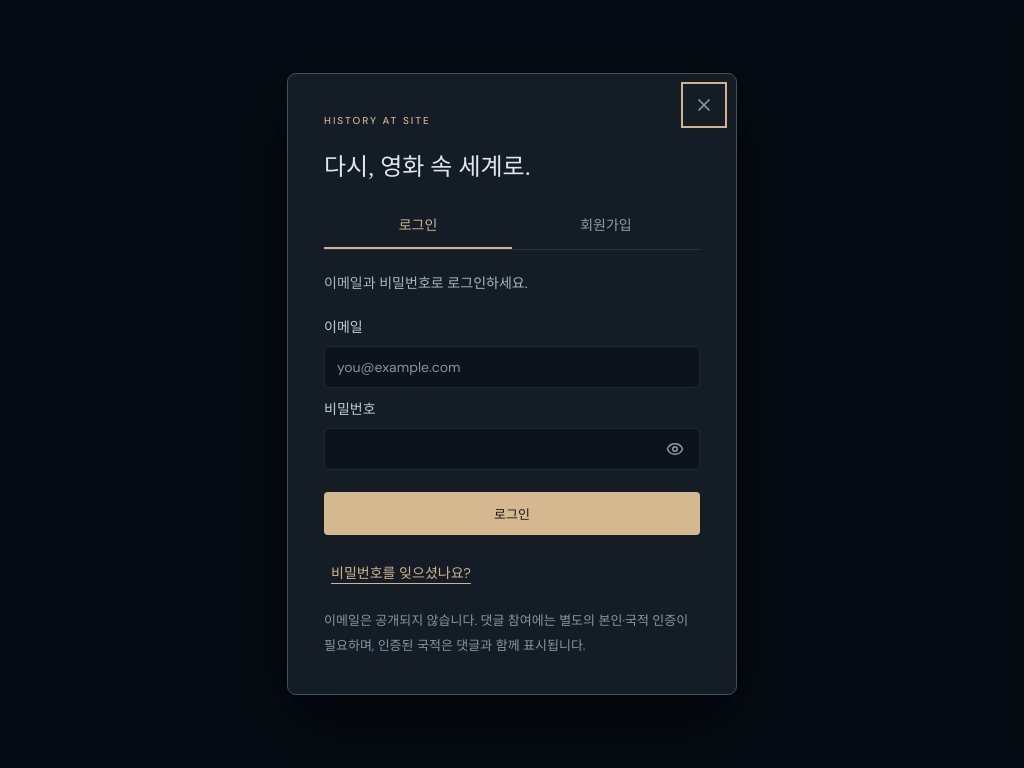
email account dialog › requires matching passwords and awaits email confirmation rather than claiming a session
Click the button "회원가입" at (606, 224), box [512,200,700,248]
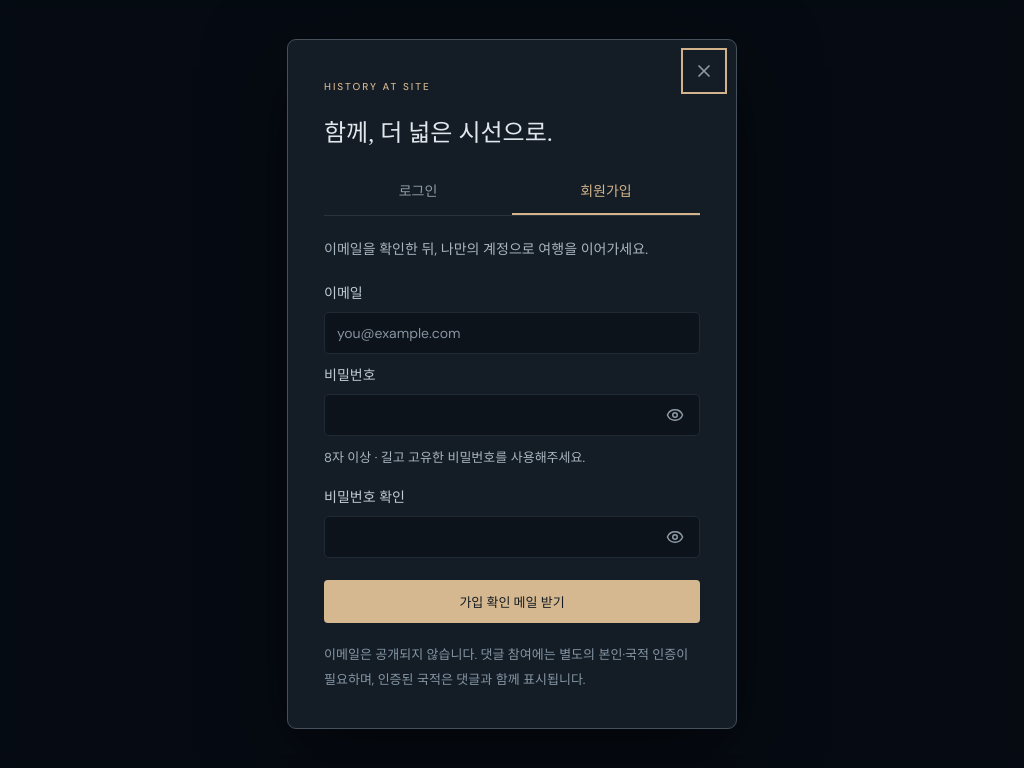
Type "reader@example.com" into the field labelled "이메일" at (512, 333), box [324,312,700,354]
Type "a-long-password" into the password field labelled "비밀번호" at (512, 415), box [324,394,700,436]
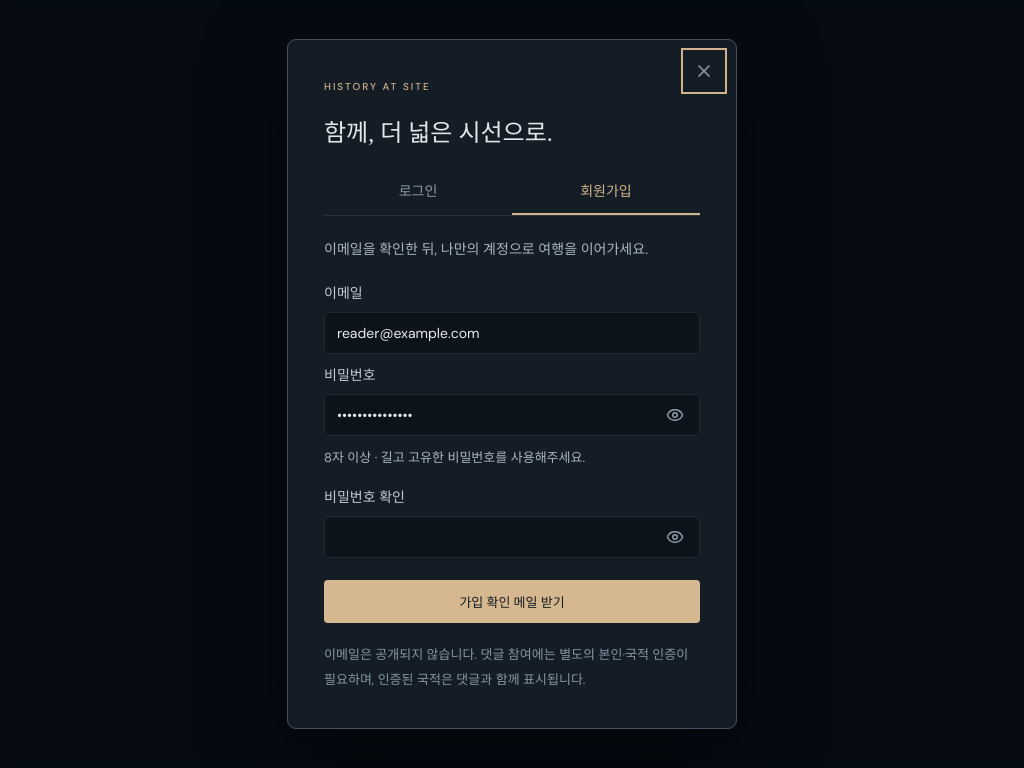
Type "a-different-password" into the password field labelled "비밀번호 확인" at (512, 537), box [324,516,700,558]
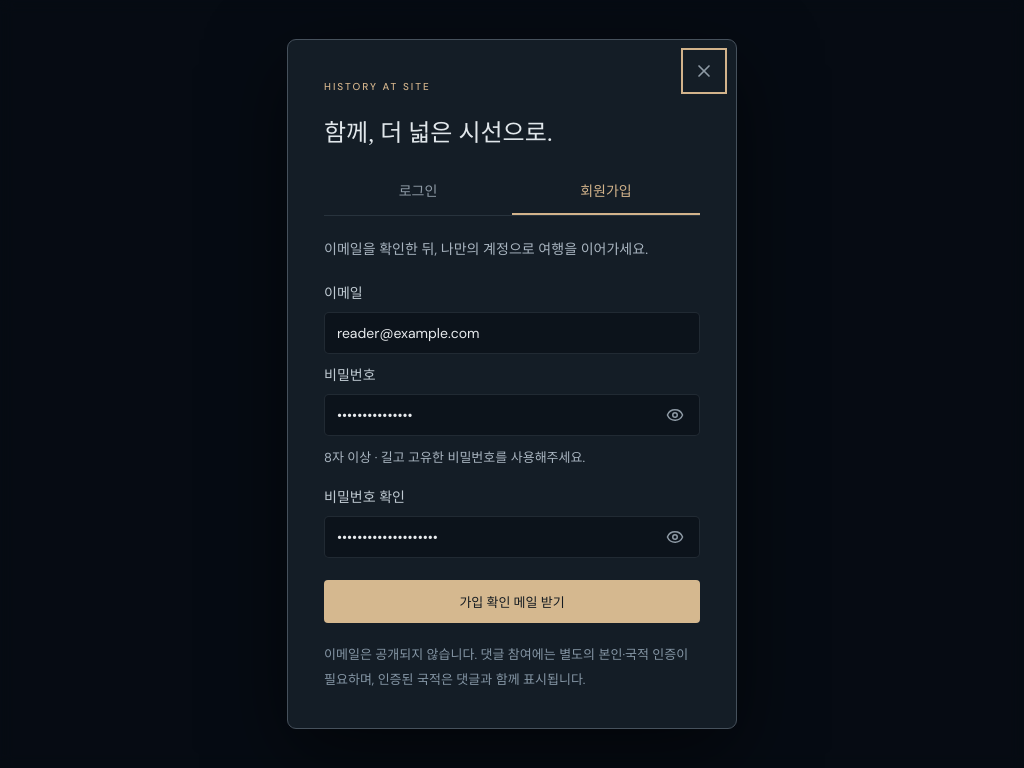
Submit the form, box [324,282,700,623]
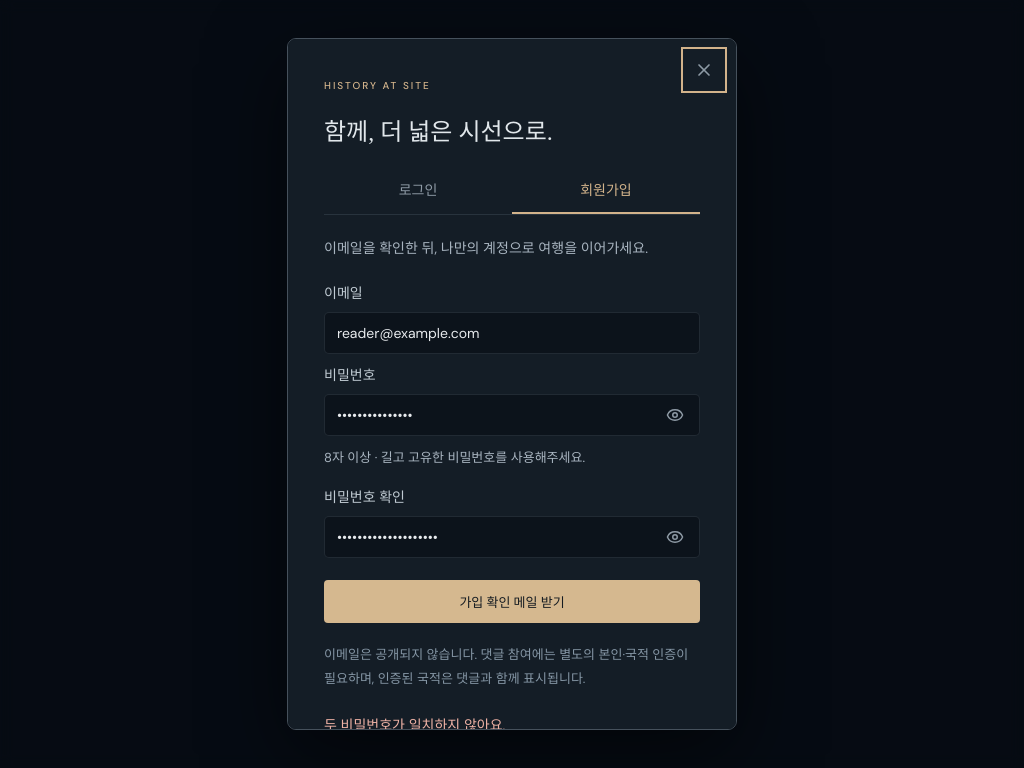
Expected: the message shows "일치하지", [324,716,505,730]
Type "a-long-password" into the password field labelled "비밀번호 확인" at (512, 537), box [324,516,700,558]
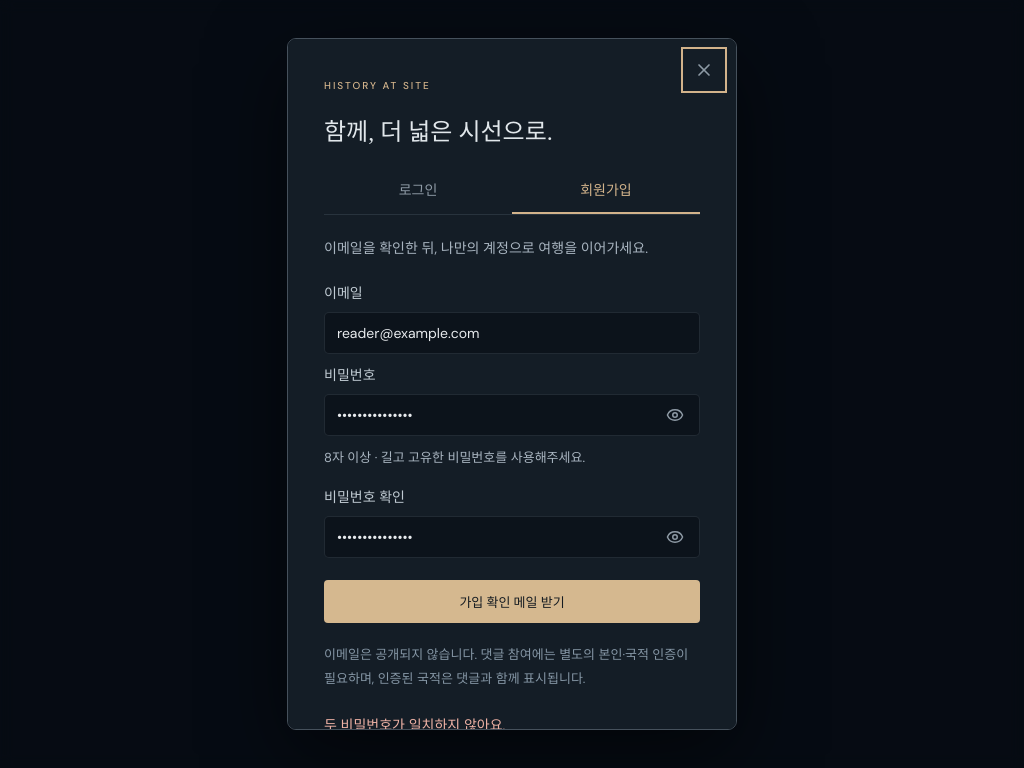
Submit the form, box [324,282,700,623]
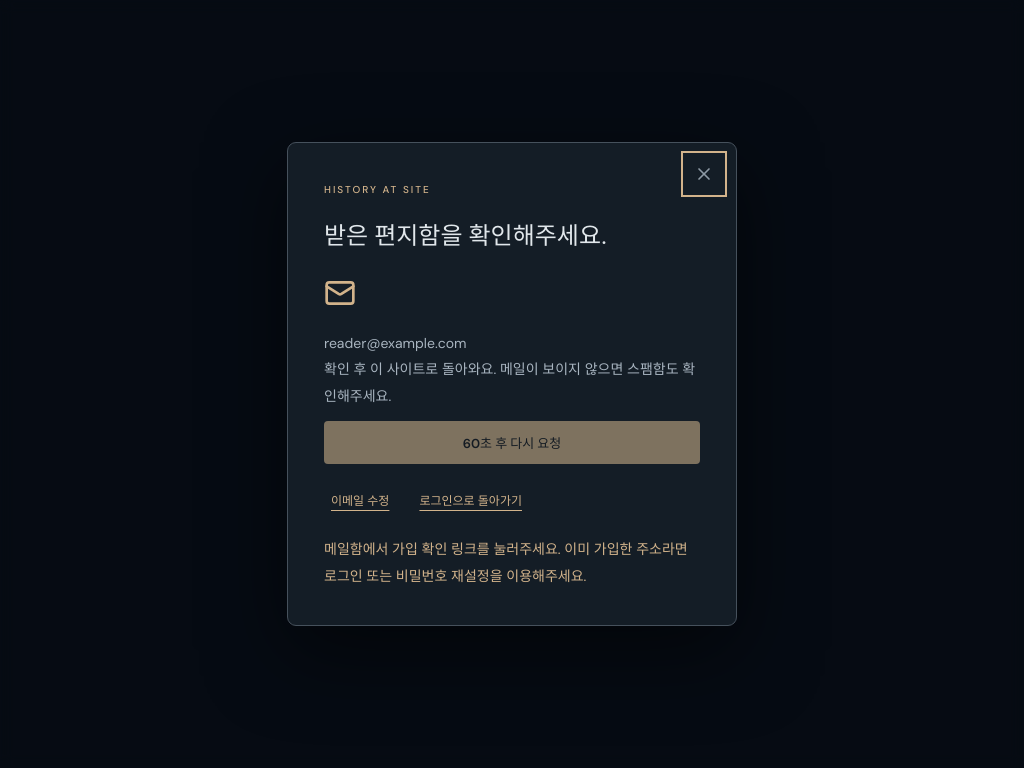
Expected: the heading "받은 편지함을 확인해주세요." is shown, [324,222,607,248]
Expected: the button "60초 후 다시 요청" is disabled, [324,421,700,464]
